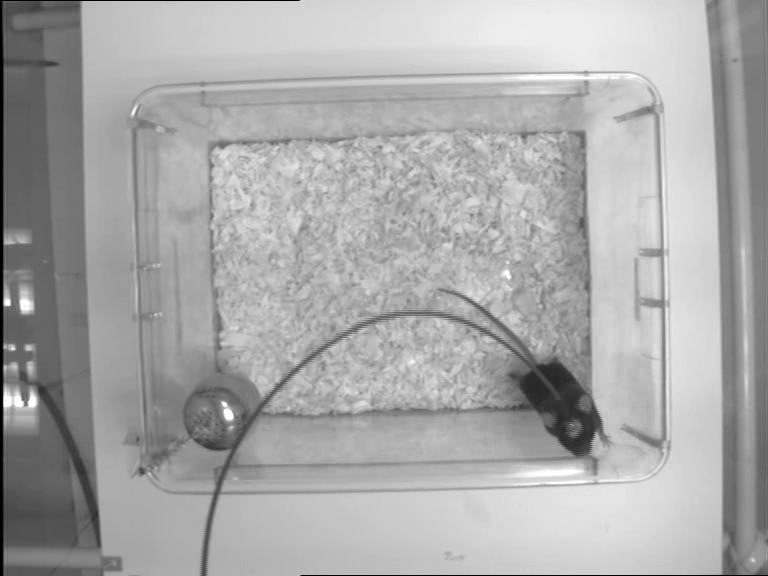mice: (442, 287, 614, 461)
